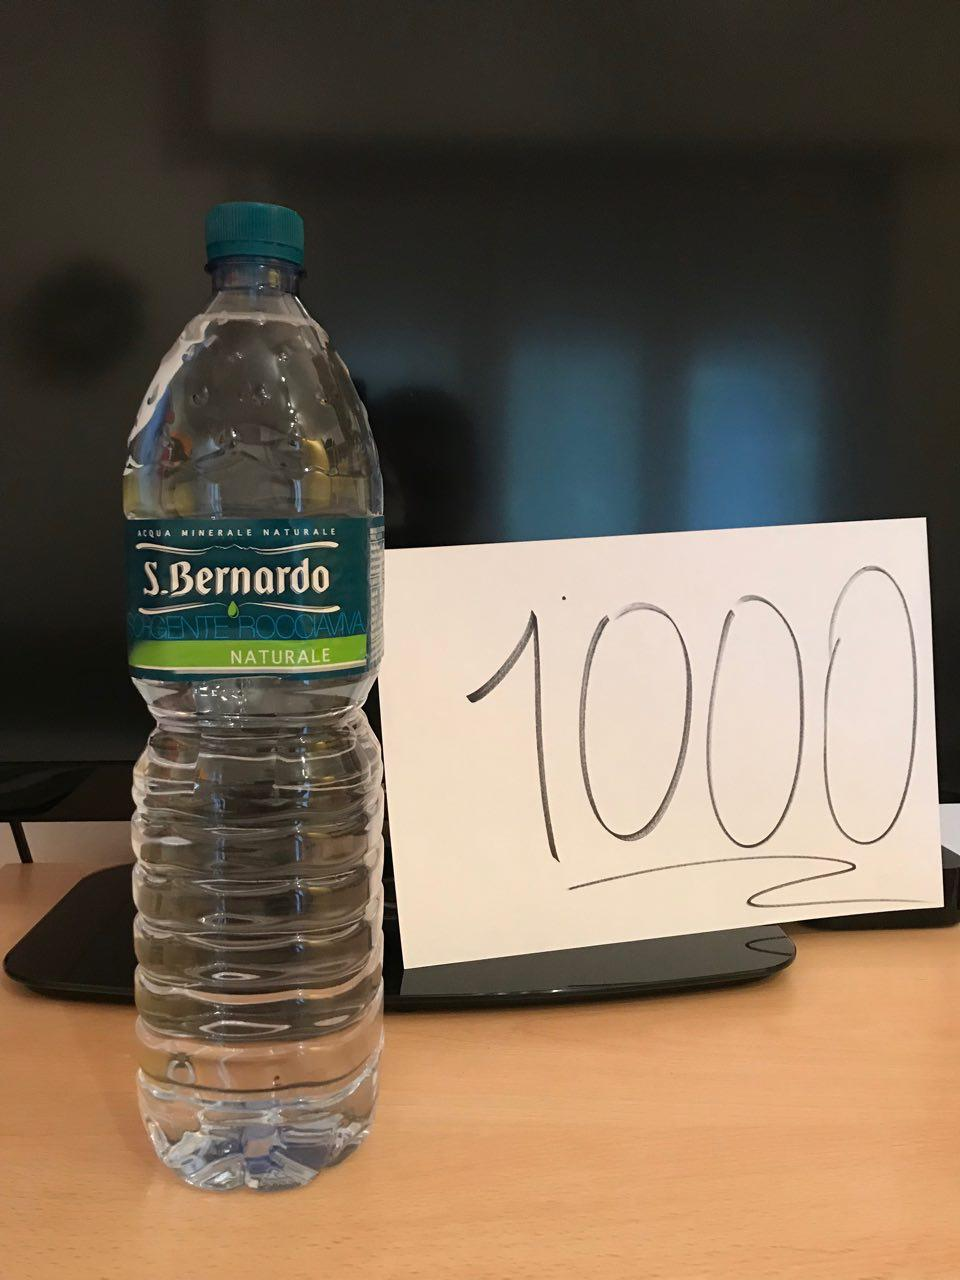san_bernardo: (119, 198, 387, 1195)
